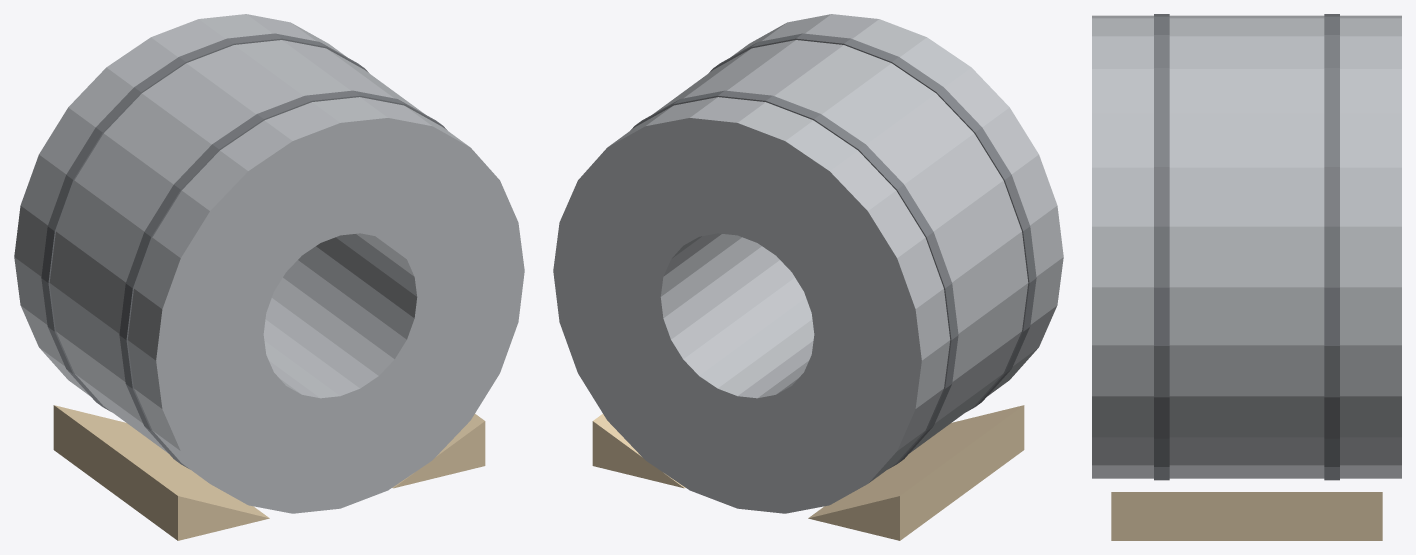
Rendered from bobina_medio.glb.
3 views of the same model, side by side, from view 1: azimuth 30°, elevation 25°; view 2: azimuth 150°, elevation 25°; view 3: azimuth 270°, elevation 25° (orthographic). The views are drawn at different scales.
Parts seen in each view (by area): view 1: corpo; view 2: corpo; view 3: corpo.
Part boxes in pixels (x1,y1,x2,y2): corpo: (14, 14, 524, 540); corpo: (553, 14, 1063, 540); corpo: (1092, 14, 1401, 540).
Bounding box in the file's own units: 1.21 × 1.21 × 0.8.
